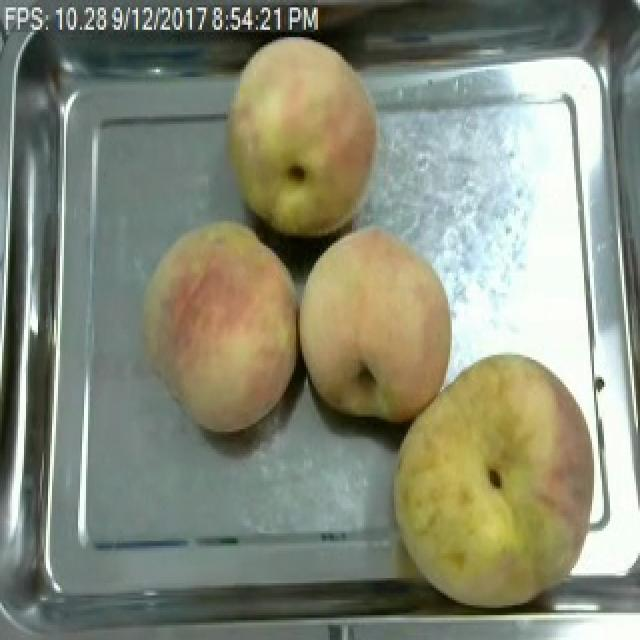Fruit: (376, 340, 620, 615), (214, 20, 392, 248), (132, 213, 310, 439), (292, 220, 464, 432)
